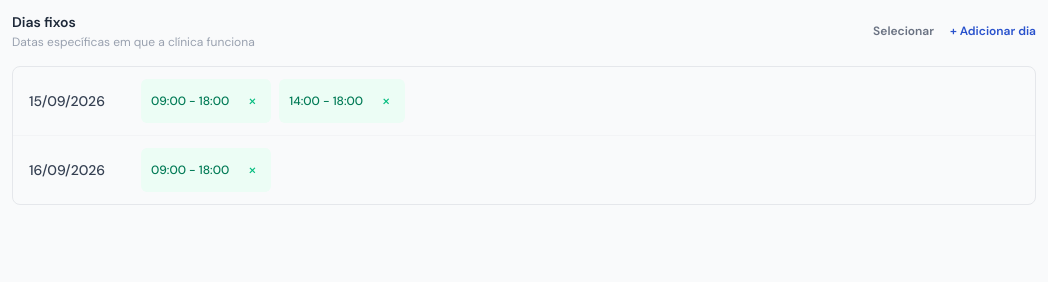
Test: FixedDaysSection › sai do modo de selecao apos excluir
This screenshot has width=1048, height=282.
Click the button "Selecionar": {"x": 904, "y": 31} [873, 23, 934, 39]
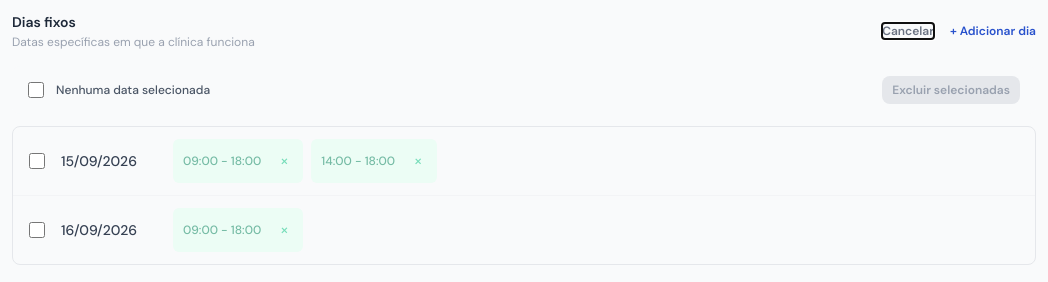
Click the checkbox named "Selecionar 15/09/2026": {"x": 37, "y": 161} [29, 153, 45, 169]
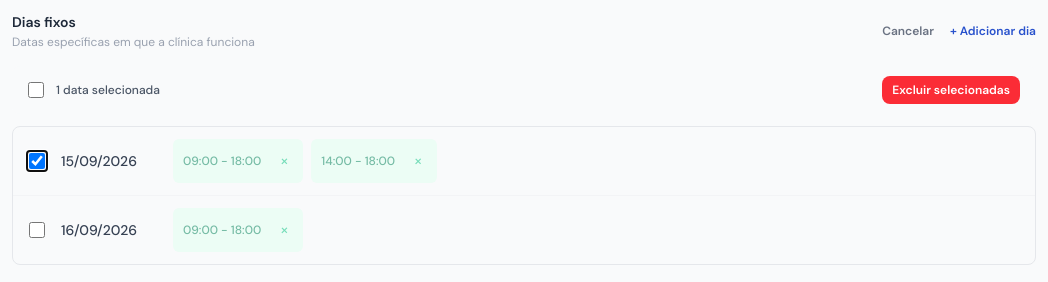
Click the button "Excluir selecionadas": {"x": 951, "y": 90} [882, 76, 1020, 104]
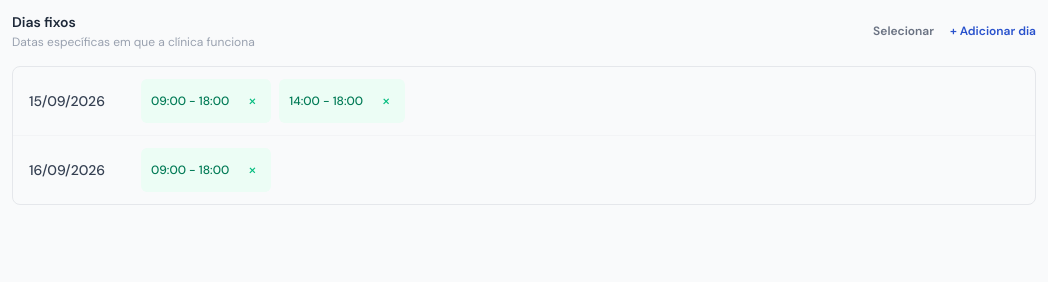
expect the button "Excluir selecionadas" is gone: met
